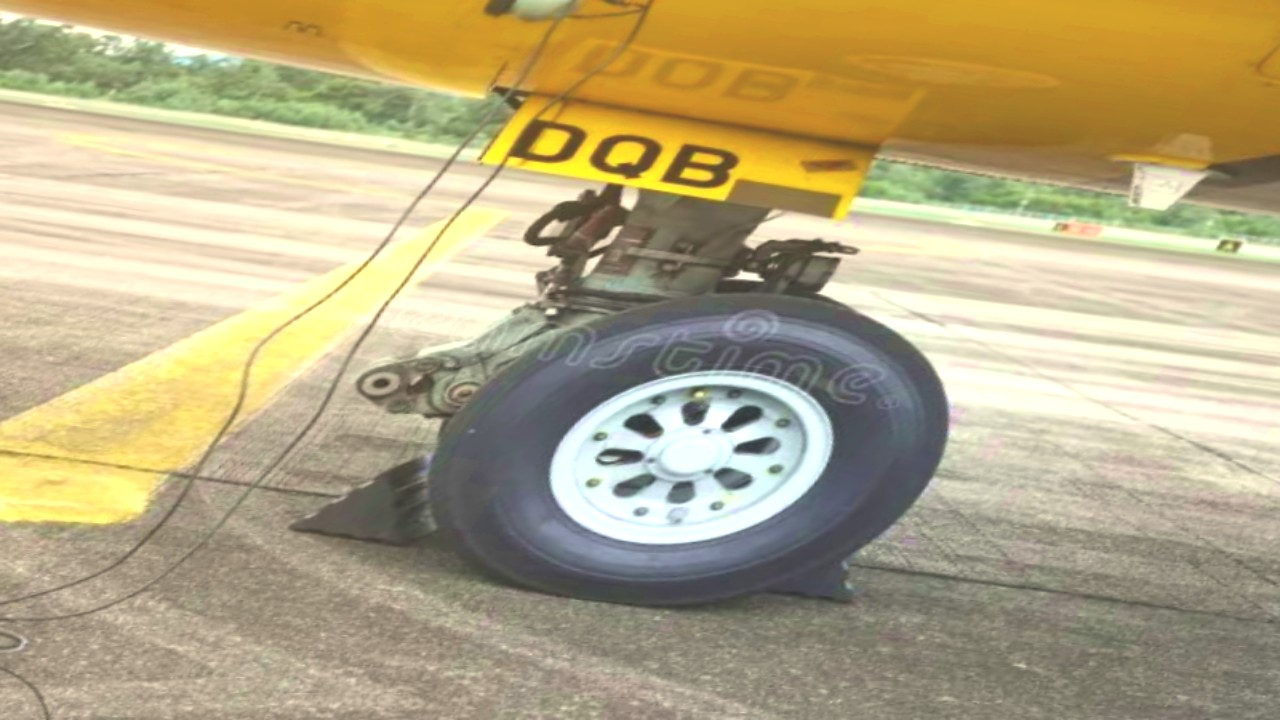chock: (280, 440, 489, 550)
wheel: (317, 252, 1046, 633)
